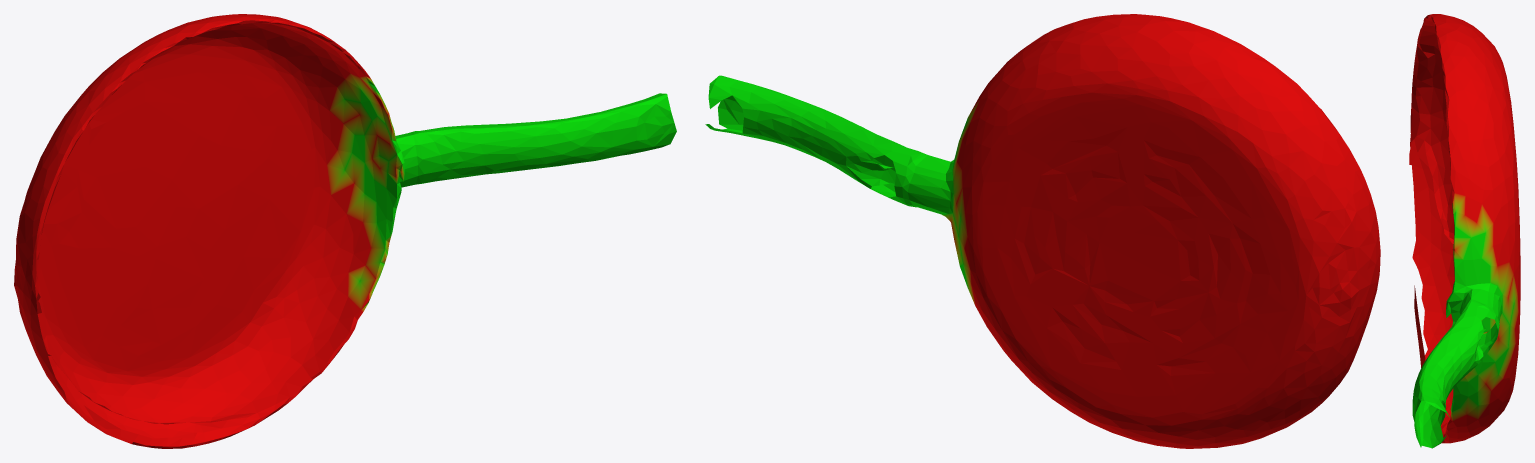
File: a_fryingpan.dae
3 renders of one model, left to right at view 1: azimuth 30°, elevation 25°; view 2: azimuth 150°, elevation 25°; view 3: azimuth 270°, elevation 25°, orthographic. The views are drawn at different scales.
Visible parts, largest first — view 1: node; view 2: node; view 3: node.
Part boxes in pixels (box(x1,y1,x2,y2)): node: box(14, 14, 676, 448); node: box(705, 14, 1380, 448); node: box(1409, 14, 1520, 448).
Bounding box in the file's own units: 0.4692 × 0.2864 × 0.0744.
